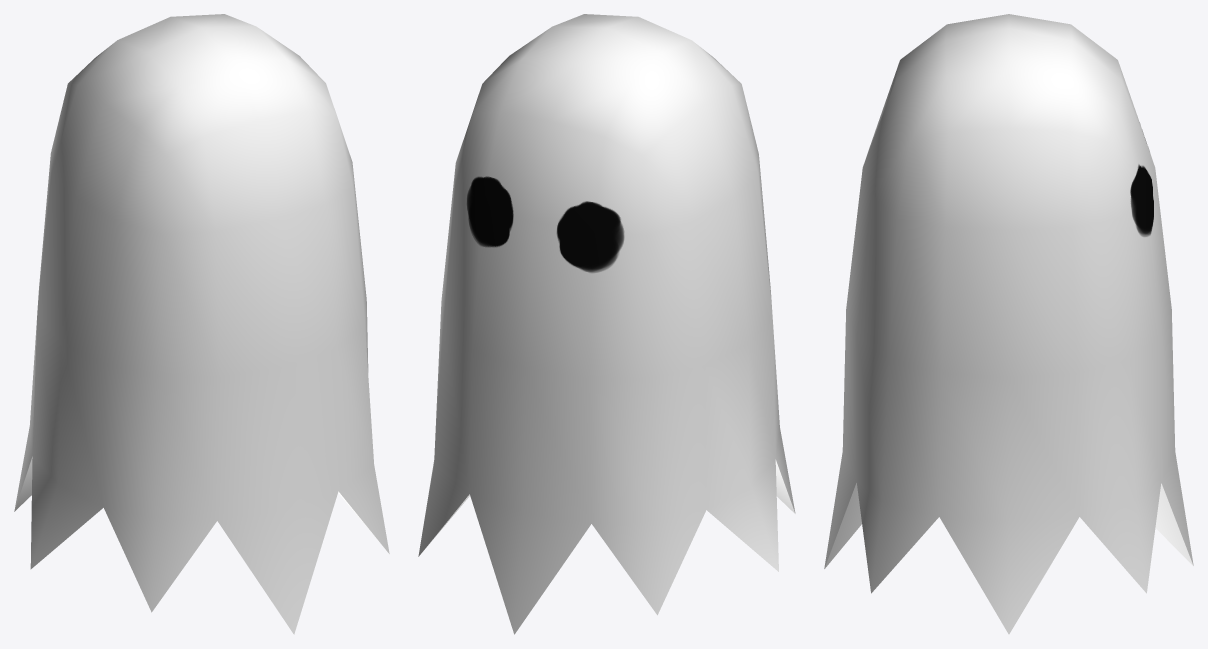
The model's file is Ghost.fbx.
The picture shows the model from 3 angles, left to right: view 1: azimuth 30°, elevation 25°; view 2: azimuth 150°, elevation 25°; view 3: azimuth 270°, elevation 25°; orthographic projection.
Visible parts, largest first — view 1: Ghost; view 2: Ghost; view 3: Ghost.
Part boxes in pixels (box(x1,y1,x2,y2)): Ghost: box(14, 14, 389, 634); Ghost: box(418, 14, 795, 634); Ghost: box(824, 14, 1193, 634).
Bounding box in the file's own units: 1024 × 1542 × 955.
